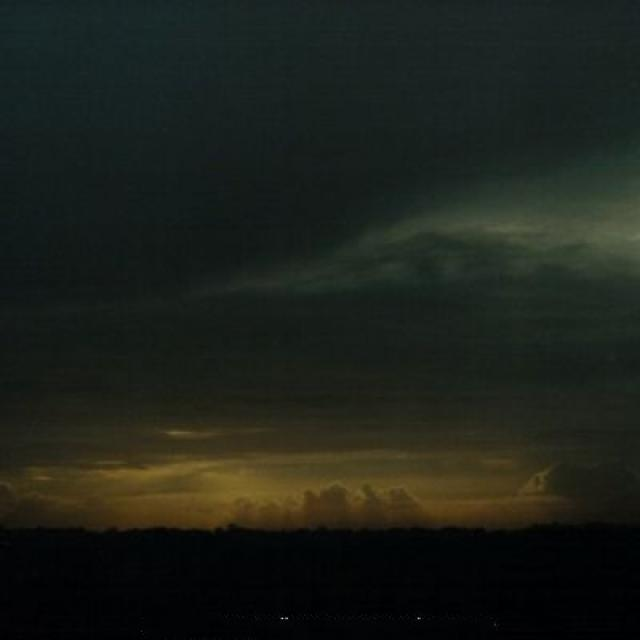As: (1, 135, 640, 533)
